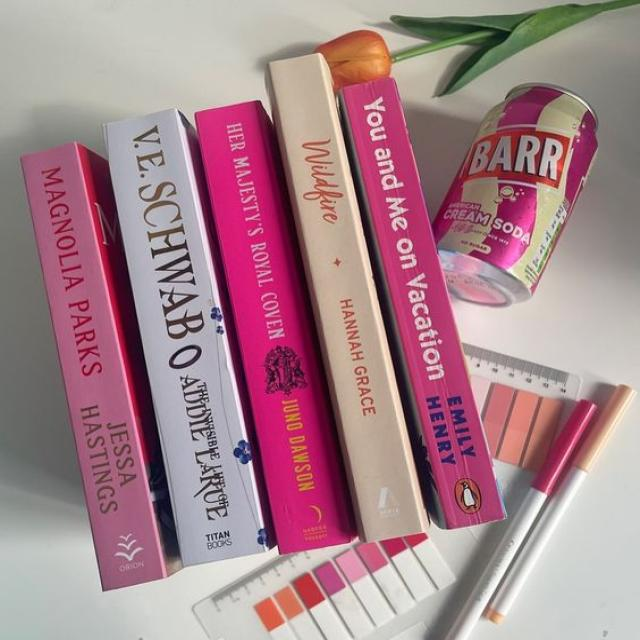book: (268, 54, 428, 542), (340, 68, 503, 528), (104, 110, 267, 566), (195, 101, 356, 554), (24, 142, 169, 590)
